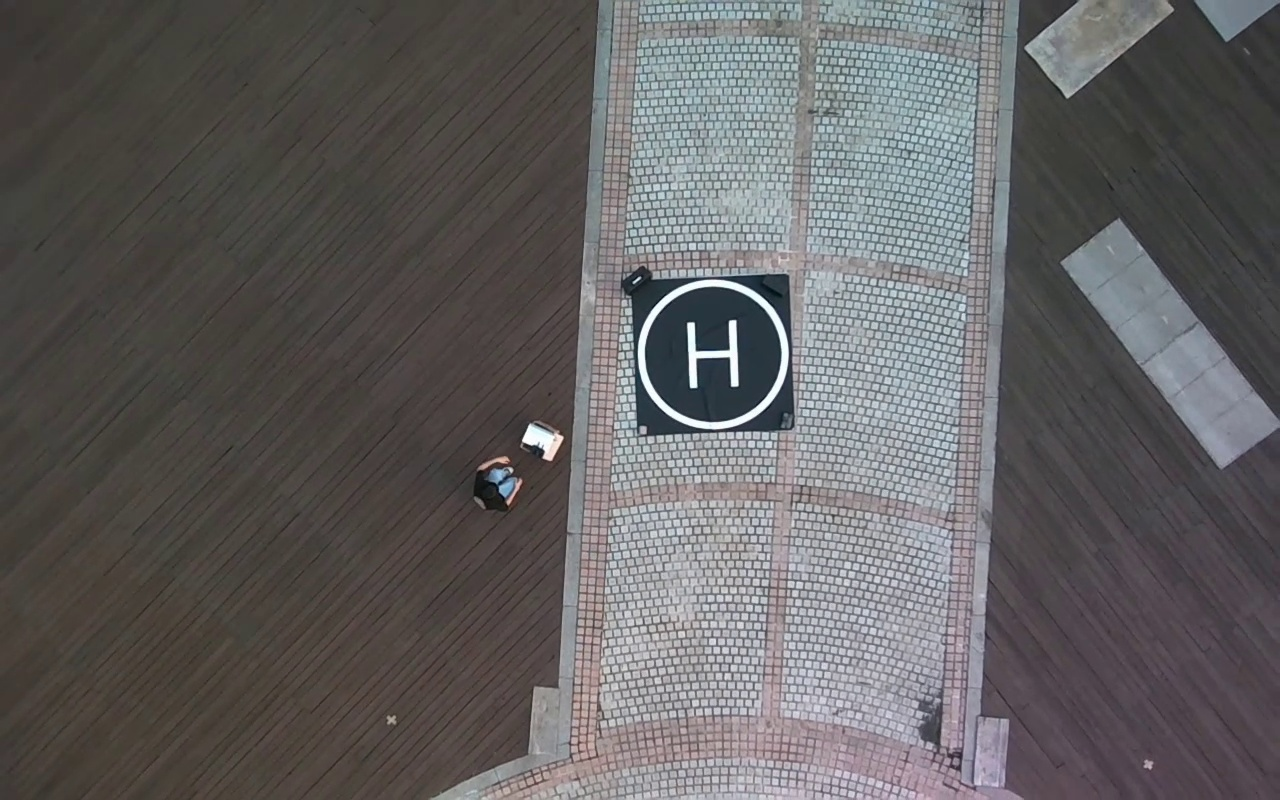H: (686, 315, 740, 390)
heliport: (637, 278, 790, 431)
